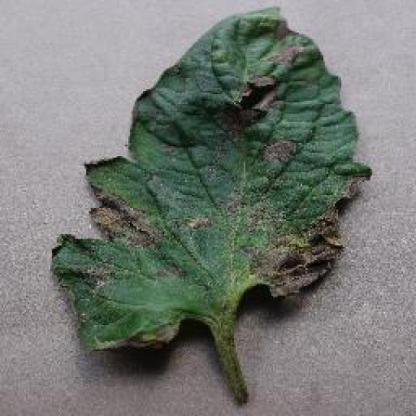Tomato_Blight: (48, 7, 370, 354)
